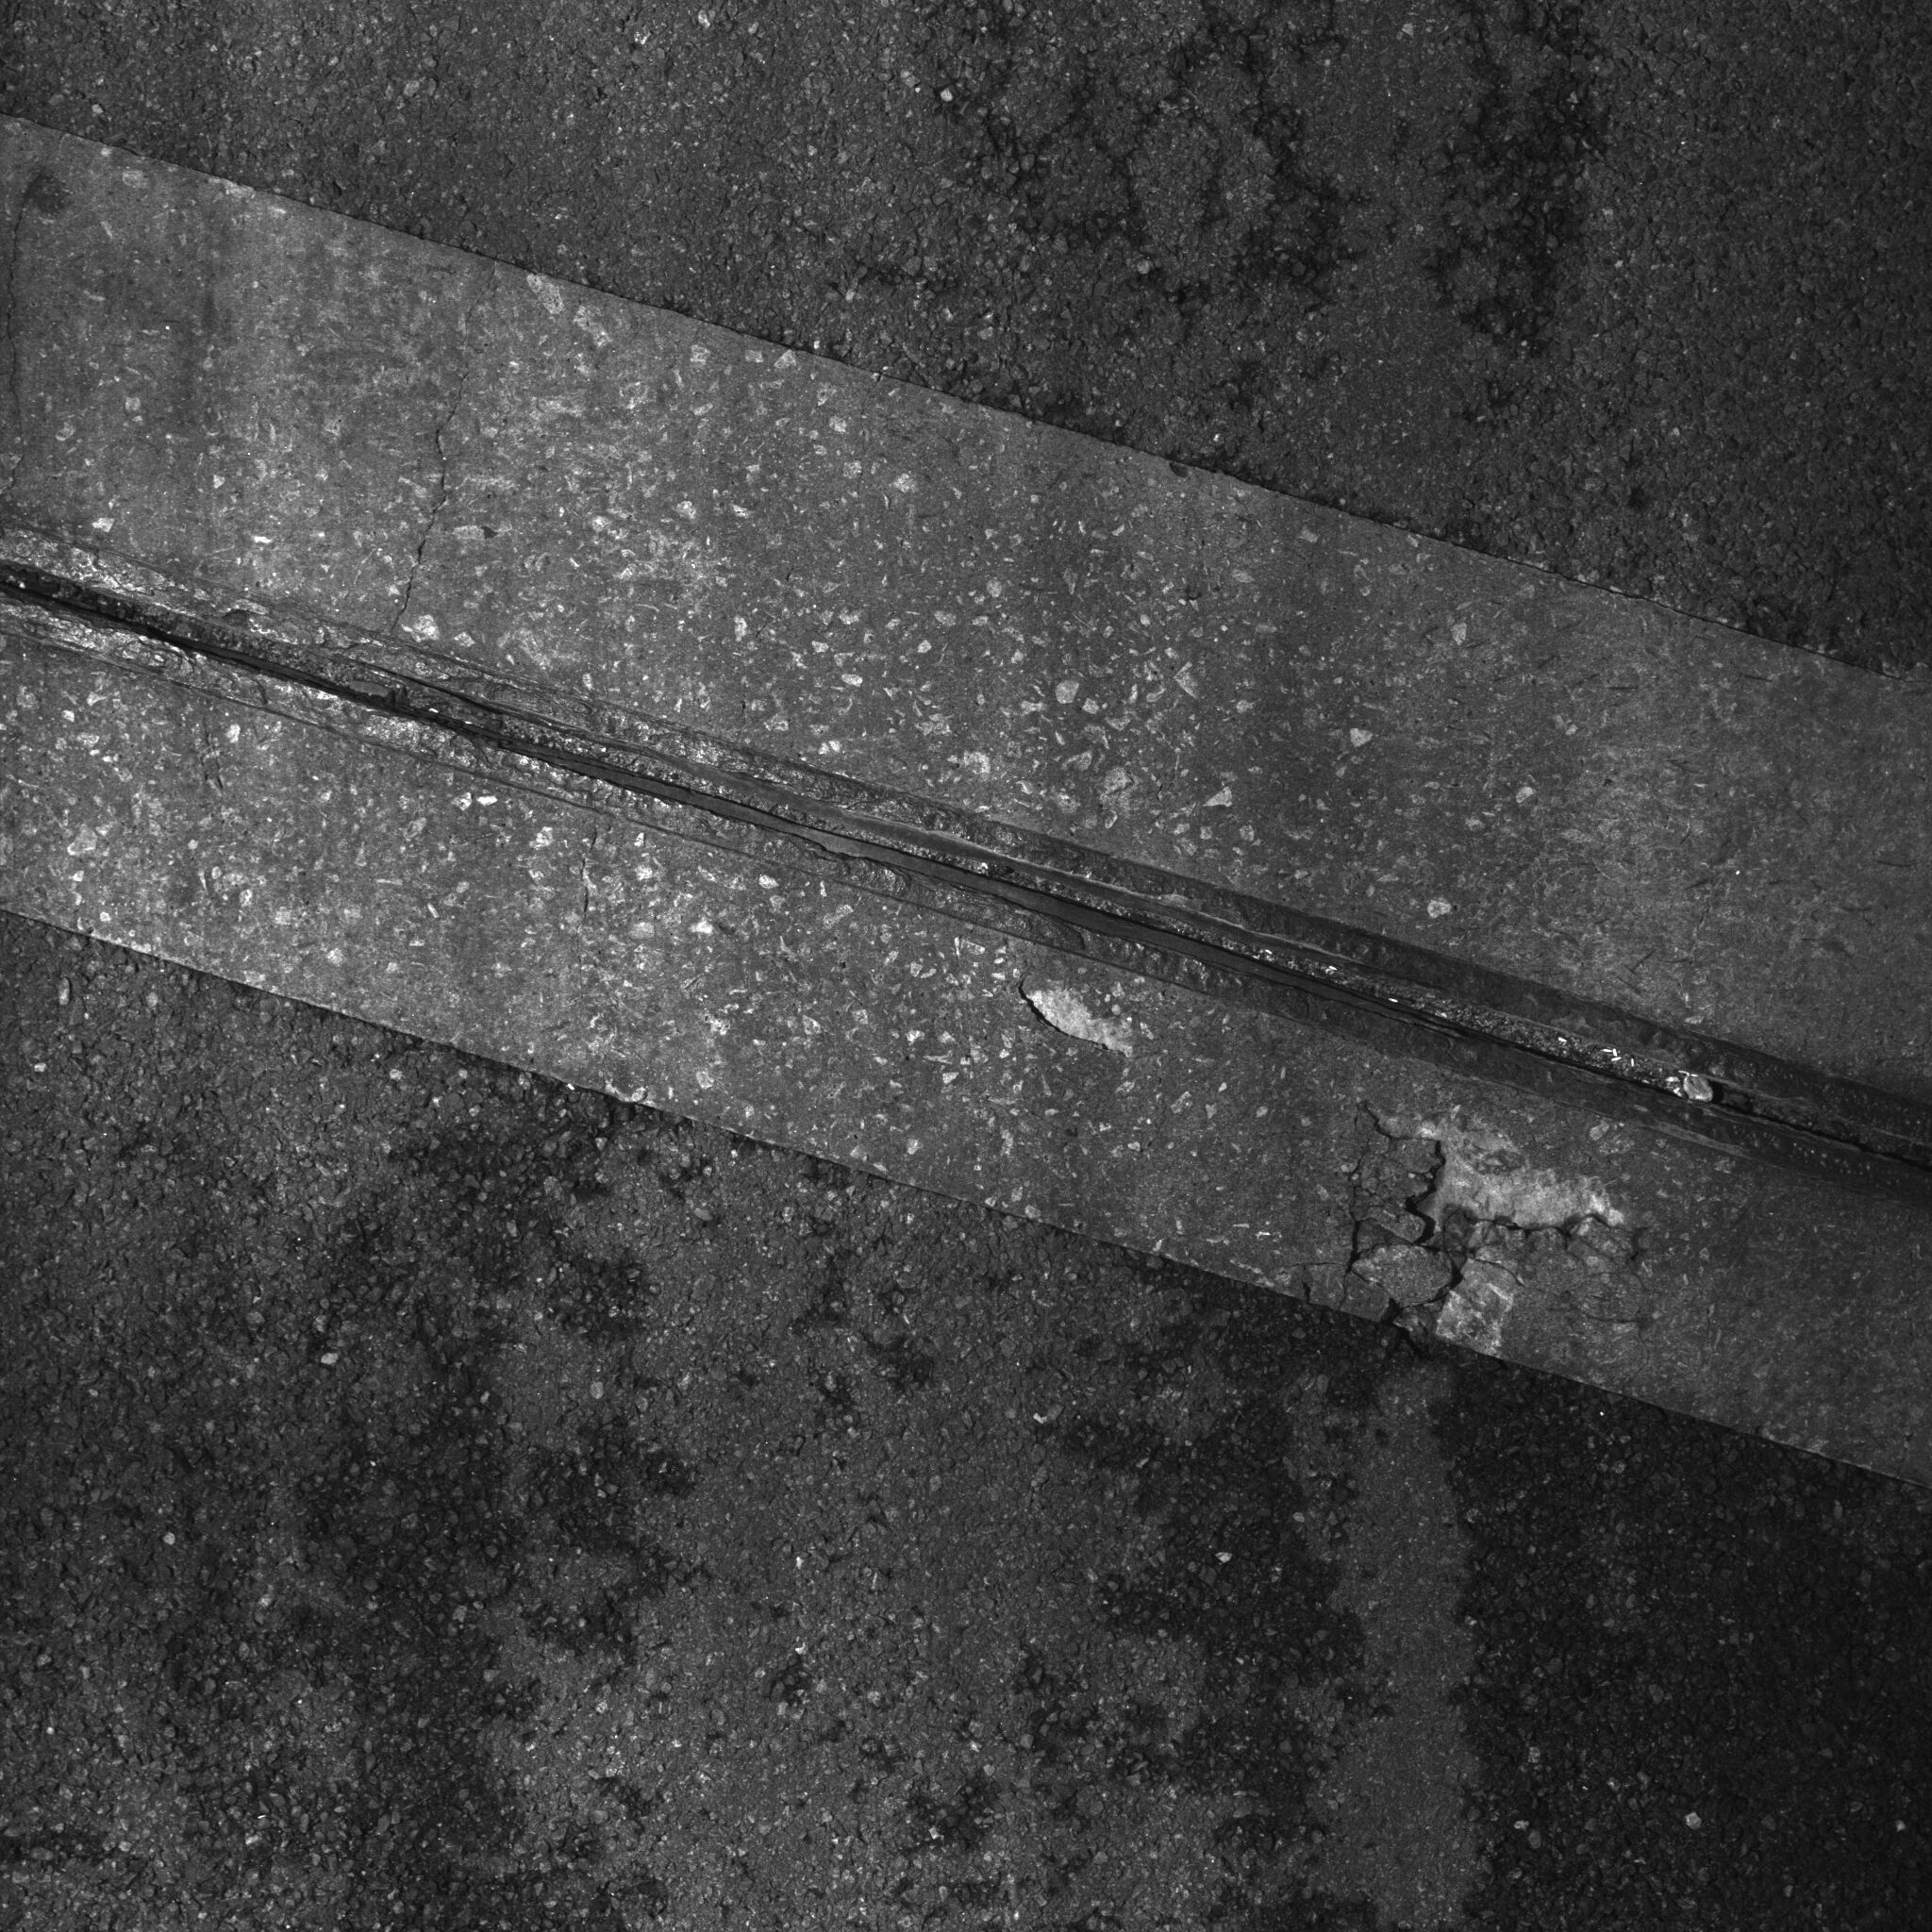alligator: (879, 14, 1697, 372)
